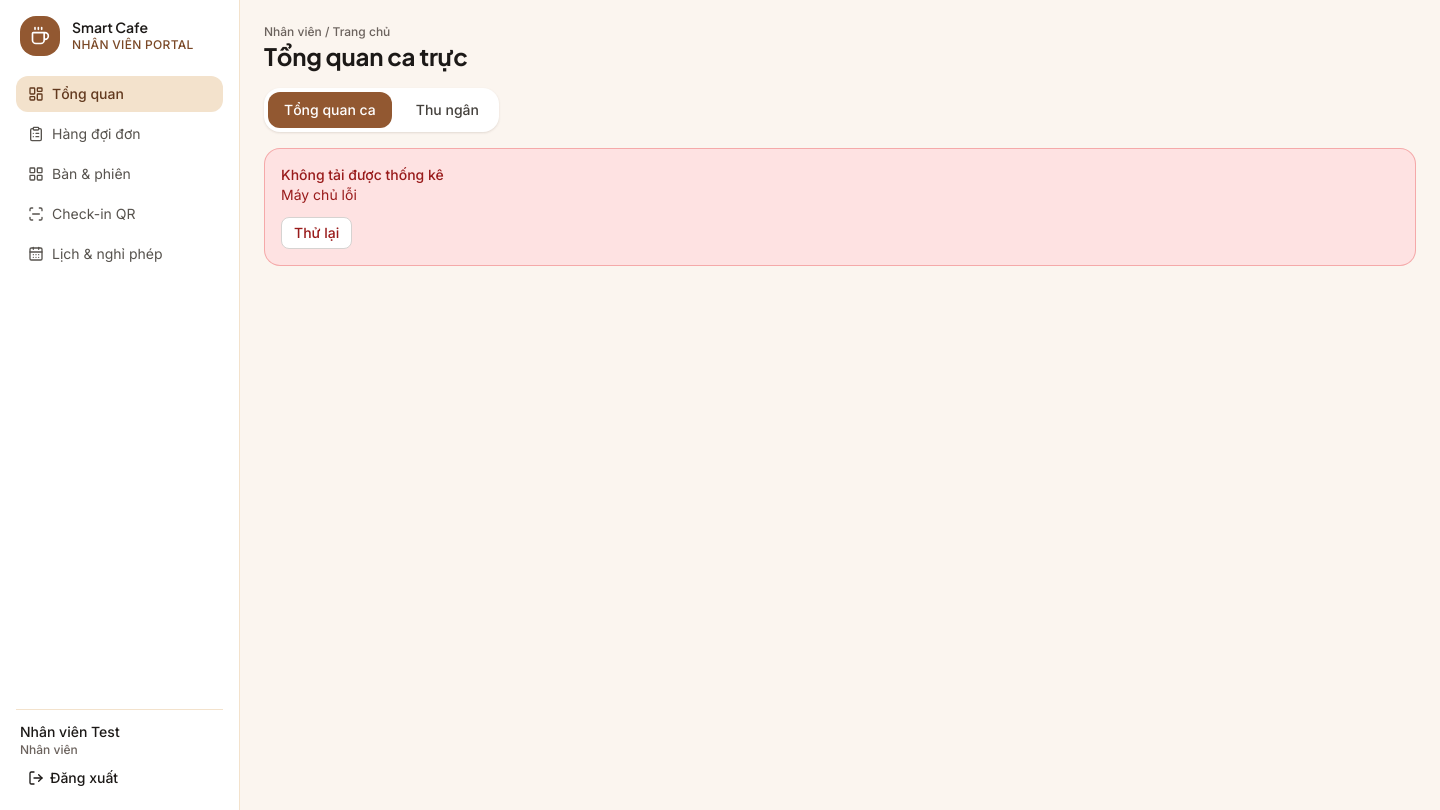
Scenario: /staff — Dashboard › lỗi tải thống kê → có thông báo và Thử lại
This screenshot has width=1440, height=810.
Check: the message shows "Máy chủ lỗi", box left=281, top=186, right=357, bottom=203
What coordinates should you click on to do the following:
click the button "Thử lại"
I would click on:
 (317, 233)
Its box is left=281, top=217, right=352, bottom=249.
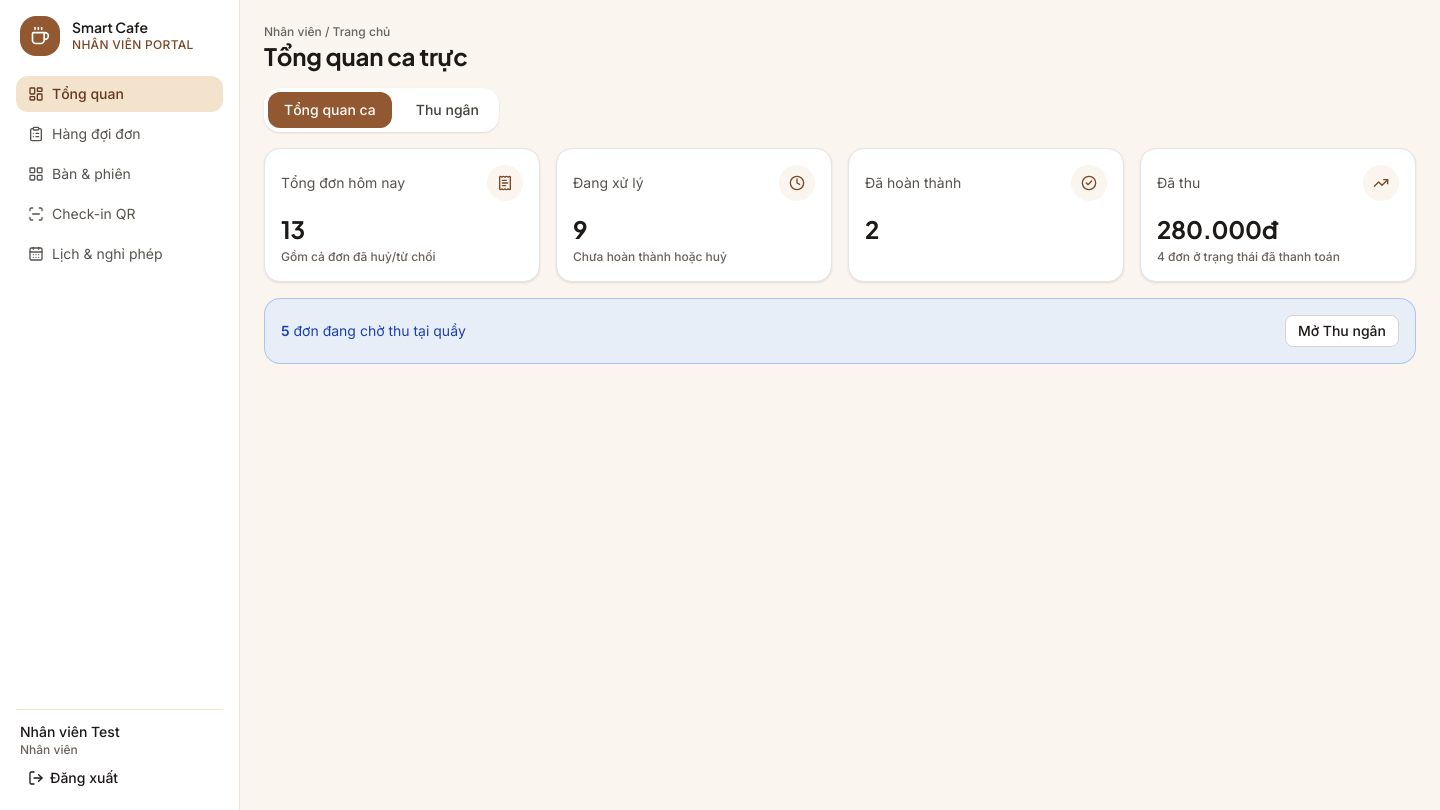
Check: the element "Đang xử lý" is shown, box left=556, top=148, right=832, bottom=282
